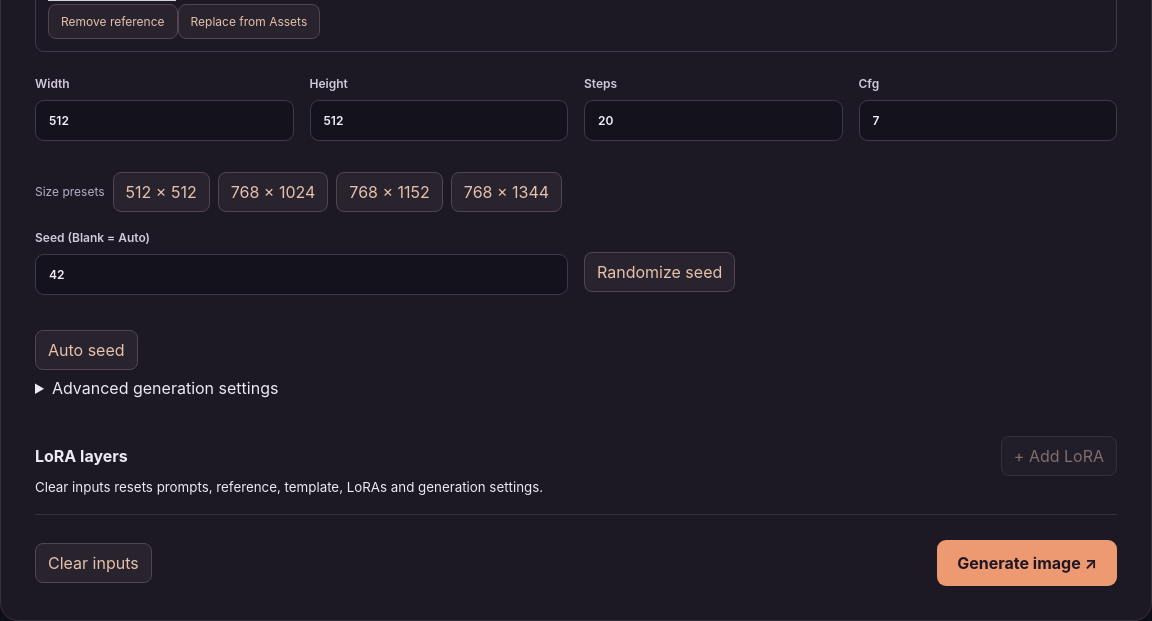
Test: Clear inputs removes every role from the draft and preserves stored reference data
(page scrolled)
Click the button "Clear inputs" at [93, 563], box x1=35 y1=543 x2=152 y2=583
(page scrolled)
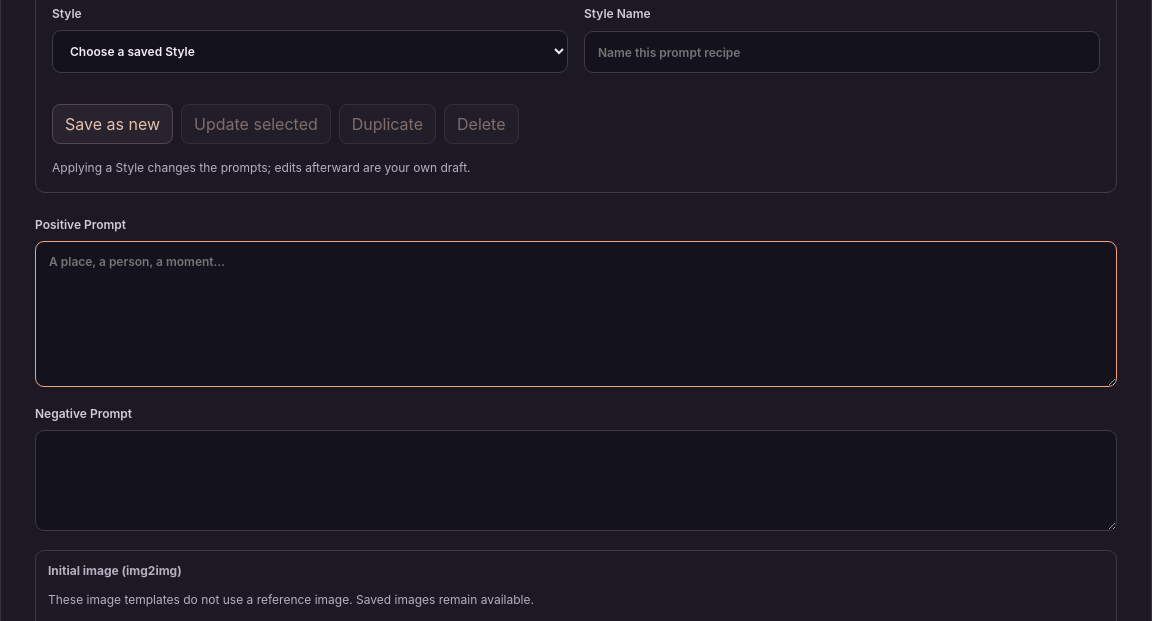
Now no pictures are shown
Now the text box labelled "Positive prompt" is empty, box x1=35 y1=241 x2=1117 y2=387
